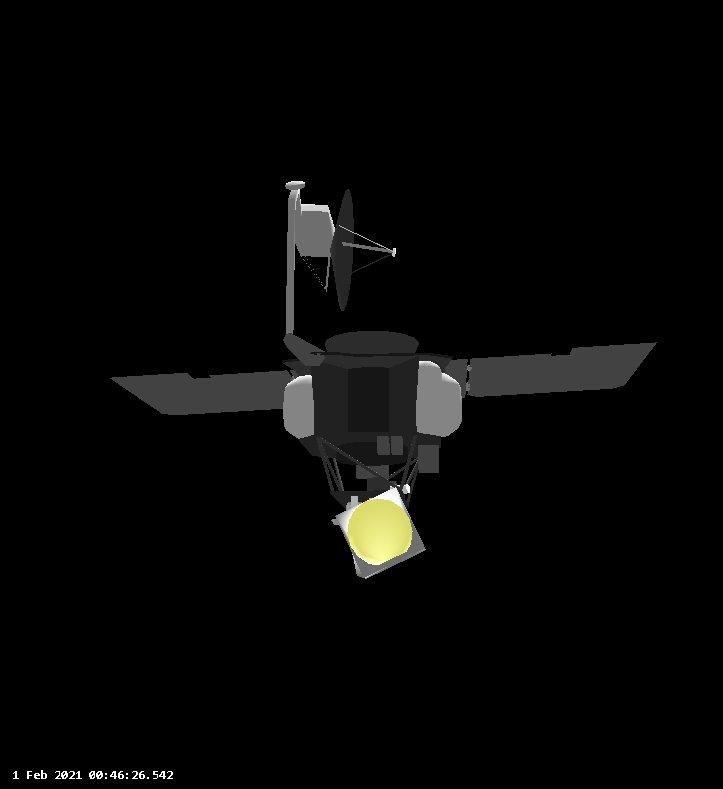antenna: (325, 182, 402, 318)
body: (277, 328, 468, 479)
solar: (107, 332, 660, 419)
